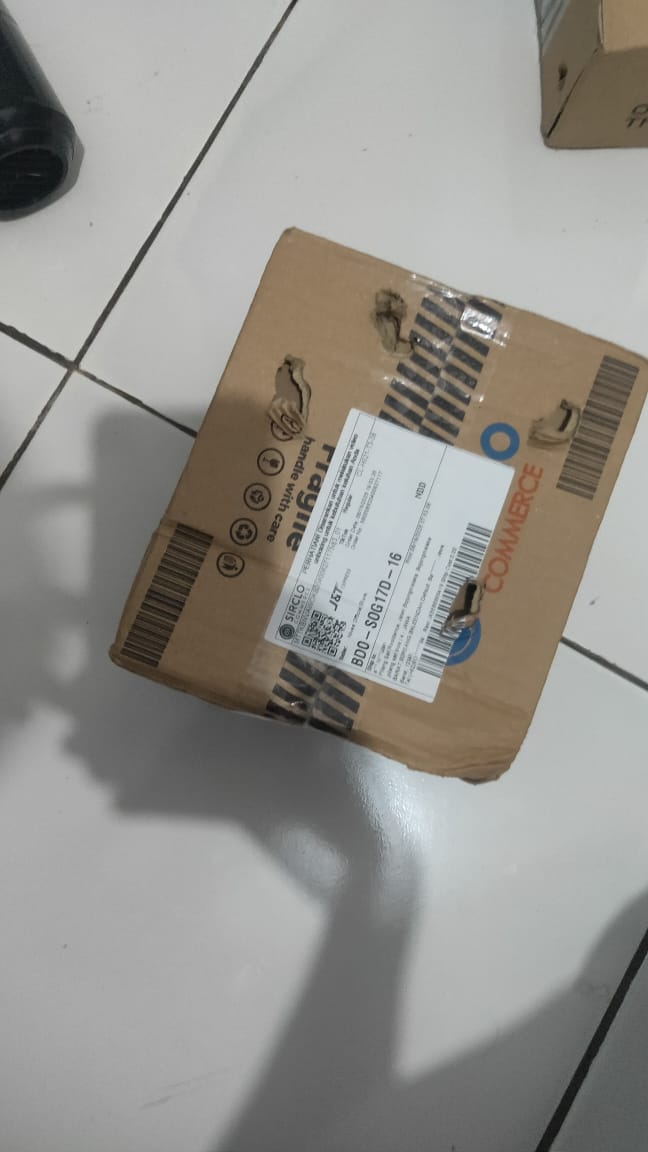damaged package: (360, 285, 421, 369), (262, 346, 316, 440), (522, 390, 584, 459), (435, 571, 486, 638)
undamaged: (109, 228, 647, 790)
